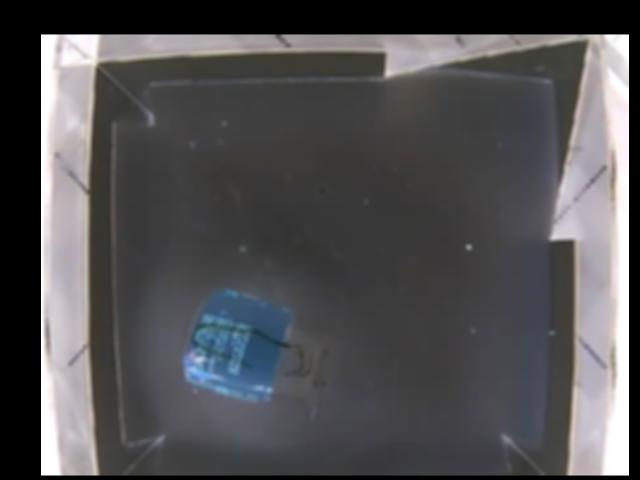Bottle: (177, 287, 332, 421)
